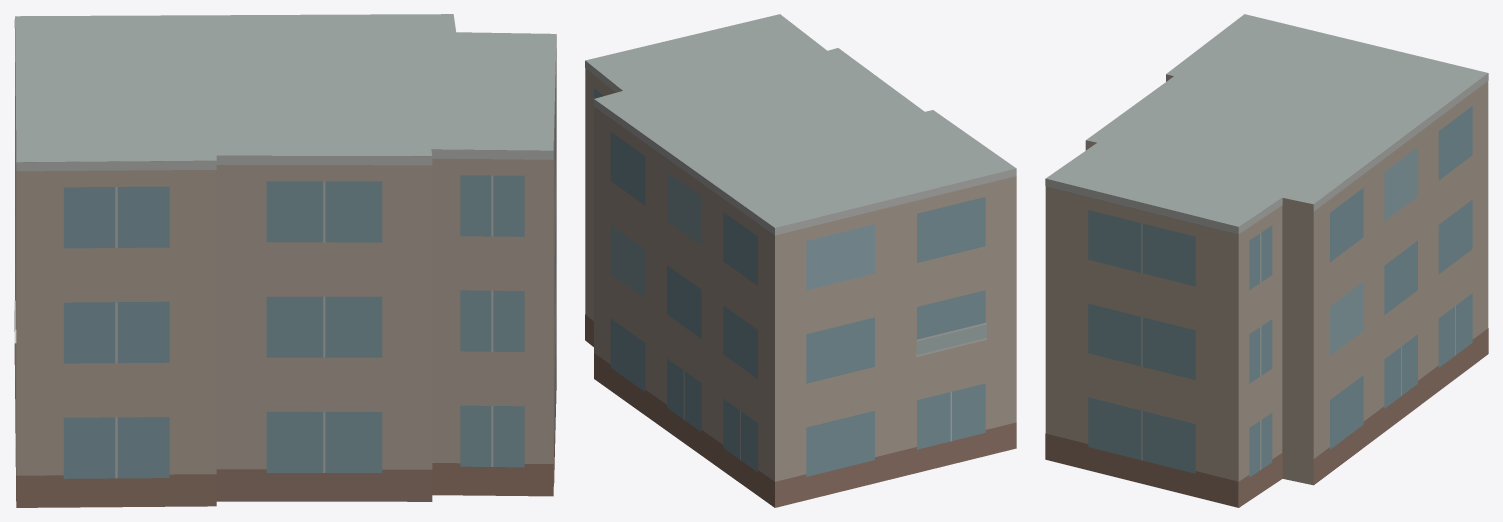
Rendered from survey-upis-32890025.glb.
3 views of the same model, side by side, from view 1: azimuth 30°, elevation 25°; view 2: azimuth 150°, elevation 25°; view 3: azimuth 270°, elevation 25° (orthographic). The views are drawn at different scales.
Visible parts, largest first — view 1: survey-upis-32890025.tmp; view 2: survey-upis-32890025.tmp; view 3: survey-upis-32890025.tmp.
Part boxes in pixels (x1,y1,x2,y2): survey-upis-32890025.tmp: (14, 14, 556, 507); survey-upis-32890025.tmp: (585, 14, 1016, 507); survey-upis-32890025.tmp: (1045, 14, 1488, 507).
Bounding box in the file's own units: 14.87 × 9.15 × 13.08.
